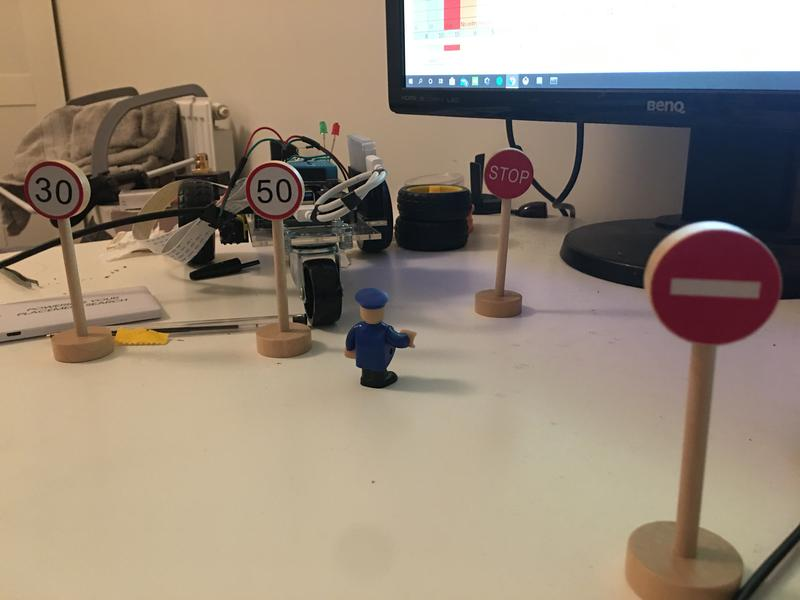Traffic_Sign_30: (24, 165, 84, 216)
Traffic_Sign_50: (244, 164, 301, 220)
Traffic_Sign_No_Entry: (653, 229, 780, 346)
Traffic_Sign_Stop: (485, 147, 533, 199)
person: (338, 285, 420, 393)
